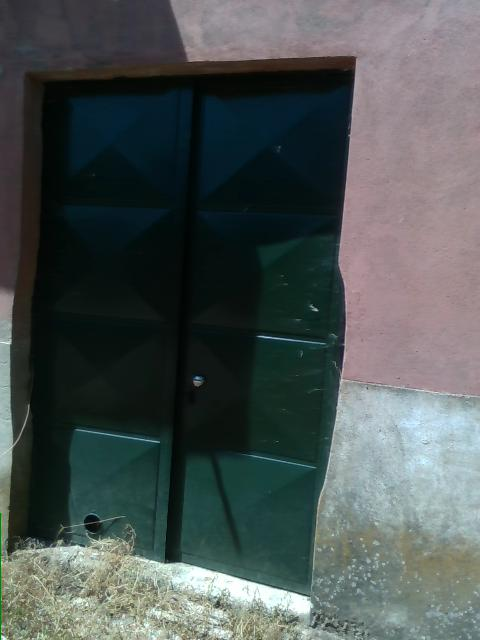closed_door: (23, 69, 349, 598)
